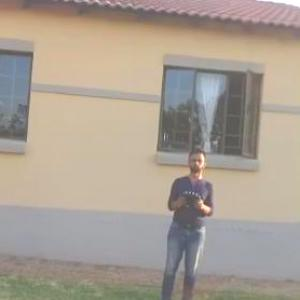follow: (153, 143, 218, 299)
